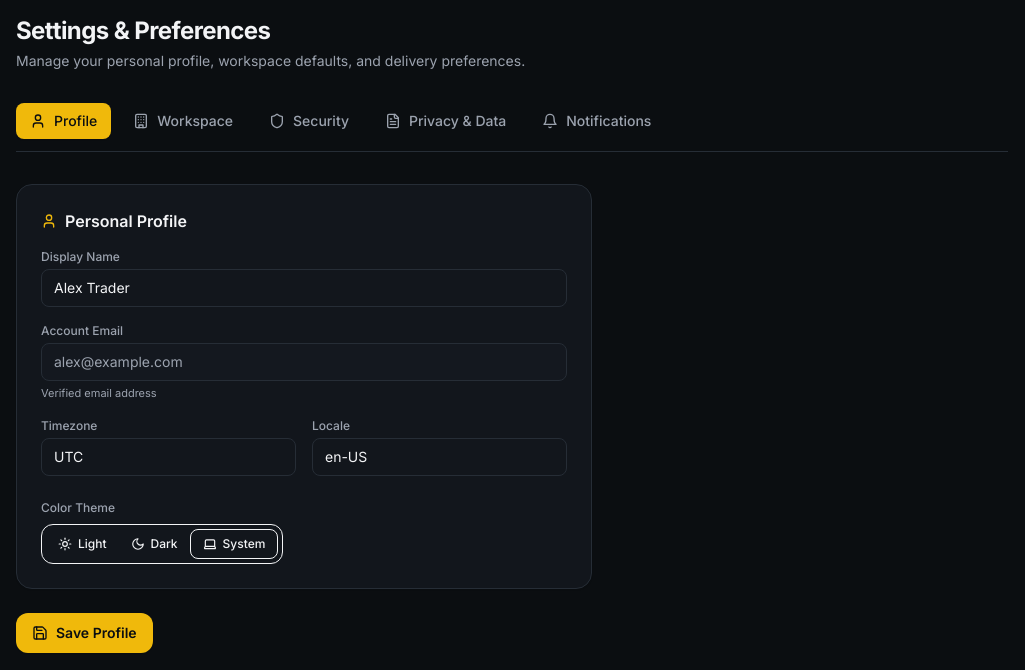
Test: SettingsPage › switches to security tab and displays two-factor settings
Expected: the heading "Settings & Preferences" is shown, [16, 16, 270, 45]
What coordinates should you click on to do the following:
click the button "Security"
I would click on:
 (309, 121)
Its box is [255, 103, 363, 139].
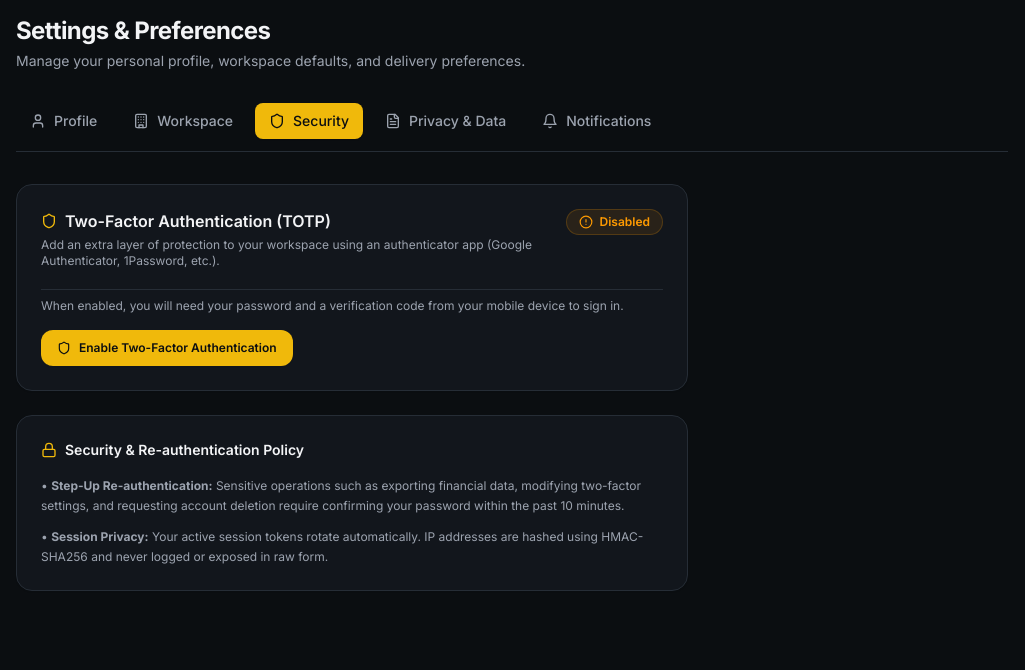
Expected: the heading "Two-Factor Authentication (TOTP)" is shown, [41, 211, 331, 231]
Expected: the text "Enable Two-Factor Authentication" is shown, [79, 340, 277, 356]
Expected: the text "Disabled" is shown, [566, 209, 663, 235]
